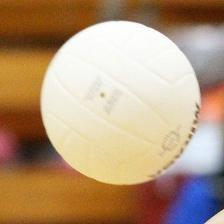Sports-Ball: (39, 18, 203, 189)
